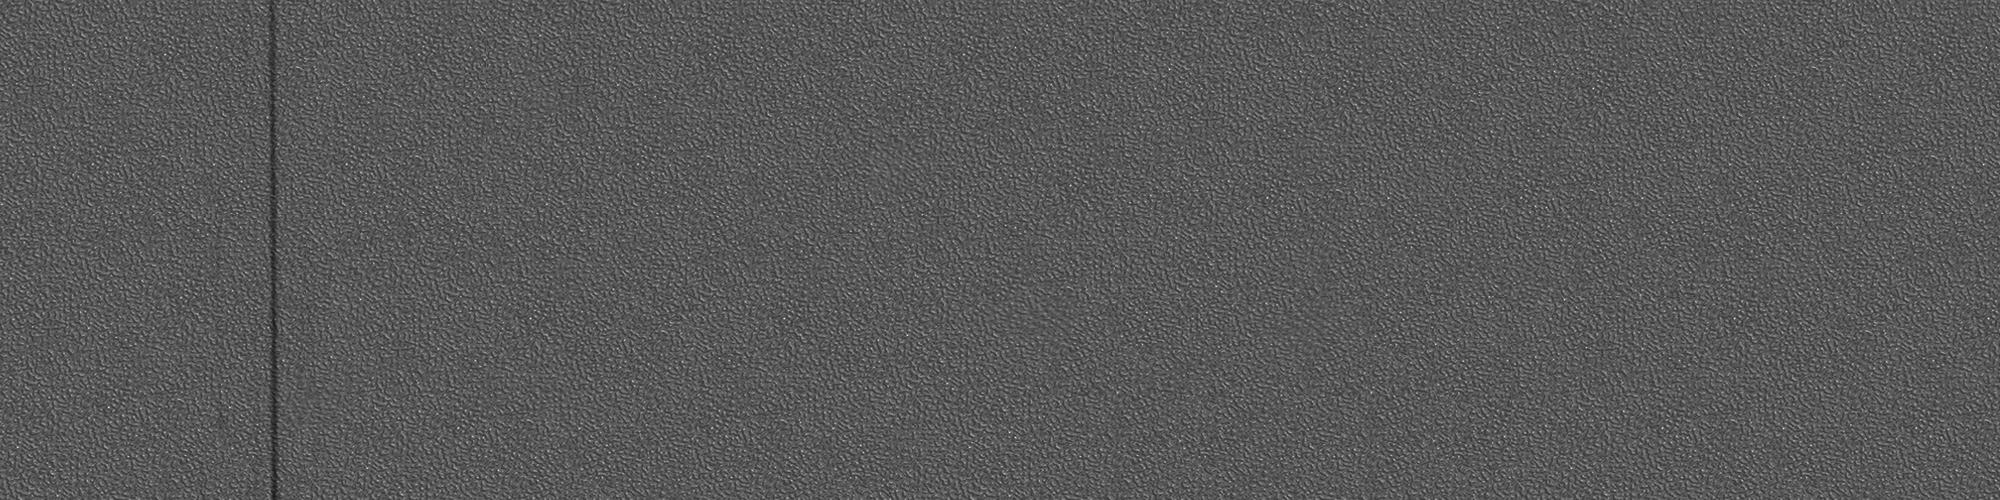DieDrag: (249, 6, 293, 499)
